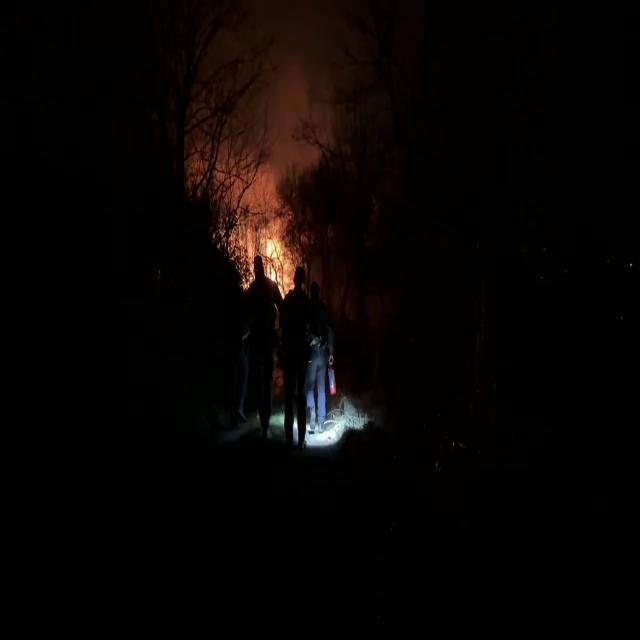Fire: (256, 223, 292, 293)
Smoke: (209, 2, 366, 196)
